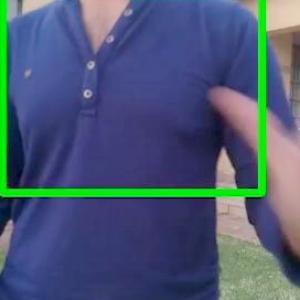land_hand: (205, 68, 299, 268)
